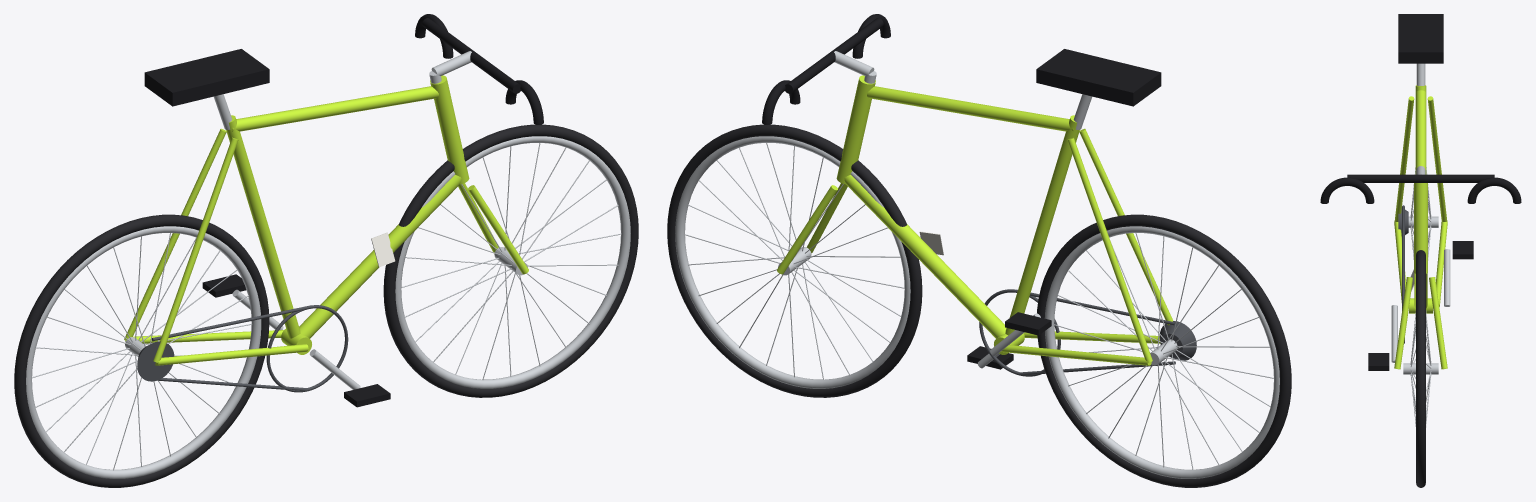
Rendered from loot-bike-comet.glb.
3 views of the same model, side by side, from view 1: azimuth 30°, elevation 25°; view 2: azimuth 150°, elevation 25°; view 3: azimuth 270°, elevation 25° (orthographic). The views are drawn at different scales.
Visible parts, largest first — view 1: rear-wheel-tyre, front-wheel-tyre, rear-wheel-rim, front-wheel-rim, saddle, down-tube, seat-tube, top-tube, seatstay-1, head-tube, seatstay-0, chainstay-1 (+8 smaller); view 2: rear-wheel-tyre, front-wheel-tyre, rear-wheel-rim, front-wheel-rim, saddle, down-tube, top-tube, seat-tube, seatstay-0, head-tube, seatstay-1, handlebar-top (+6 smaller); view 3: front-wheel-tyre, saddle, handlebar-top, head-tube, top-tube, seatstay-0, seatstay-1, fork-blade-0, fork-blade-1, drop-0, drop-1, chainstay-0 (+6 smaller).
Part boxes in pixels (x1,y1,x2,y2): rear-wheel-tyre: (14,214,269,487); front-wheel-tyre: (383,124,638,397); rear-wheel-rim: (26,226,261,478); front-wheel-rim: (395,136,630,388); saddle: (144,49,269,106); down-tube: (299,175,461,338); seat-tube: (226,115,300,338); top-tube: (232,86,438,131); seatstay-1: (153,137,238,362); head-tube: (430,75,469,184); seatstay-0: (124,128,226,340); chainstay-1: (155,344,308,365); rear-wheel-tyre: (1037,214,1291,487); front-wheel-tyre: (667,124,922,397); rear-wheel-rim: (1044,226,1279,478); front-wheel-rim: (675,136,910,388); saddle: (1036,49,1161,106); down-tube: (844,175,1006,338); top-tube: (867,86,1073,131); seat-tube: (1005,115,1079,335); seatstay-0: (1067,137,1152,362); head-tube: (836,75,875,184); seatstay-1: (1079,128,1173,325); handlebar-top: (785,18,883,93); front-wheel-tyre: (1416,250,1425,487); saddle: (1398,14,1443,63); handlebar-top: (1347,174,1494,182); head-tube: (1414,183,1427,273); top-tube: (1415,90,1426,174); seatstay-0: (1427,96,1447,221); seatstay-1: (1394,96,1414,221); fork-blade-0: (1429,277,1447,369); fork-blade-1: (1394,277,1412,369); drop-0: (1467,177,1521,203); drop-1: (1320,177,1374,203); chainstay-0: (1436,221,1447,306).
Size of the model in its own units: 1.67 by 1.02 by 0.574.
